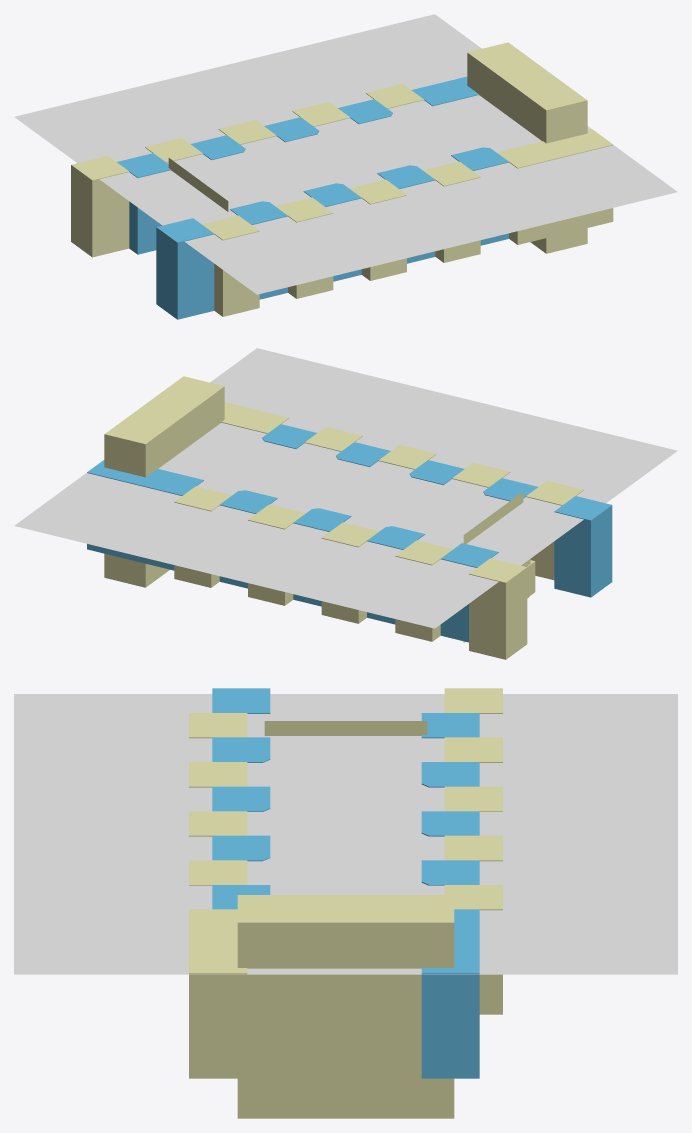
The model's file is Castle Interior.fbx.
3 views of the same model, one above another, from view 1: azimuth 30°, elevation 25°; view 2: azimuth 150°, elevation 25°; view 3: azimuth 270°, elevation 25° (orthographic). The views are drawn at different scales.
Parts seen in each view (by area): view 1: Plane.003, Cube.099; view 2: Plane.003, Cube.099; view 3: Plane.003, Cube.099.
Boxes of the visible parts, <box> form: Plane.003: <box>14,14,677,294</box>; Cube.099: <box>71,42,613,319</box>; Plane.003: <box>14,348,677,628</box>; Cube.099: <box>87,376,612,659</box>; Plane.003: <box>14,694,677,974</box>; Cube.099: <box>189,688,502,1118</box>.
Bounding box in the file's own units: 2903 × 931 × 2856.
